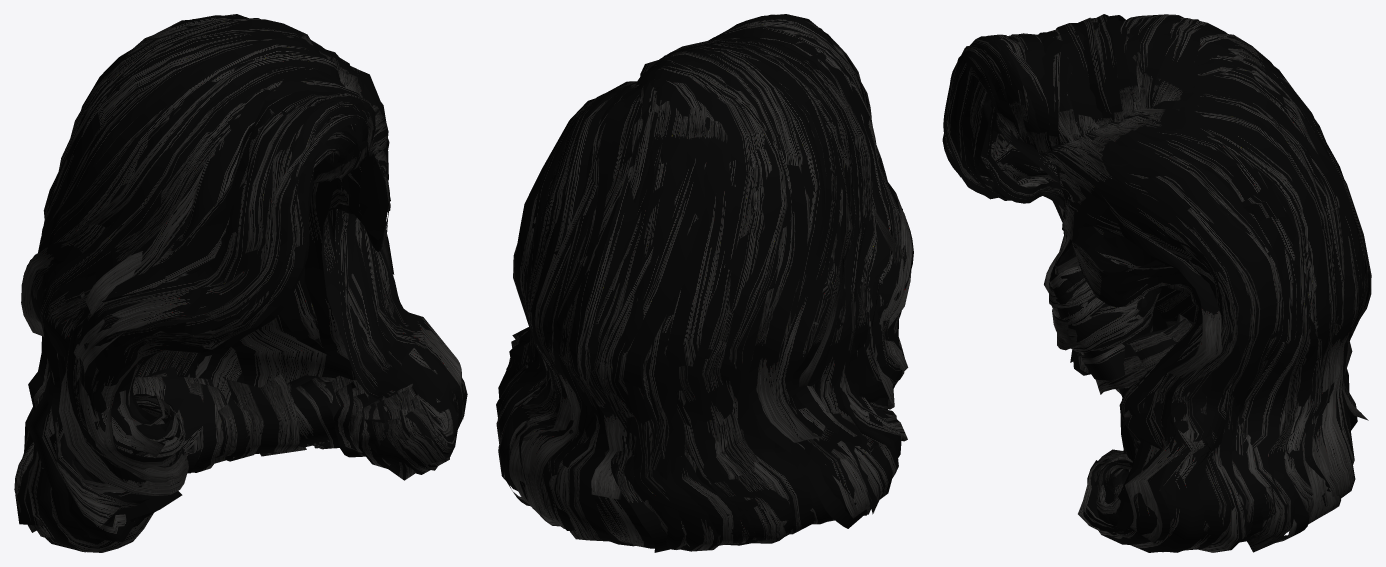
Rendered from Hair_4.fbx.
The picture shows the model from 3 angles, left to right: view 1: azimuth 30°, elevation 25°; view 2: azimuth 150°, elevation 25°; view 3: azimuth 270°, elevation 25°; orthographic projection. The views are drawn at different scales.
Visible parts, largest first — view 1: avaturn_hair_1, avaturn_hair_0; view 2: avaturn_hair_1, avaturn_hair_0; view 3: avaturn_hair_1, avaturn_hair_0.
Boxes of the visible parts, x1,y1,x2,y2 form: avaturn_hair_1: [14, 14, 467, 552]; avaturn_hair_0: [37, 27, 458, 537]; avaturn_hair_1: [496, 14, 913, 552]; avaturn_hair_0: [509, 21, 902, 545]; avaturn_hair_1: [942, 14, 1371, 552]; avaturn_hair_0: [956, 28, 1330, 539].
Size of the model in its own units: 29.12 by 32.53 by 27.2.
